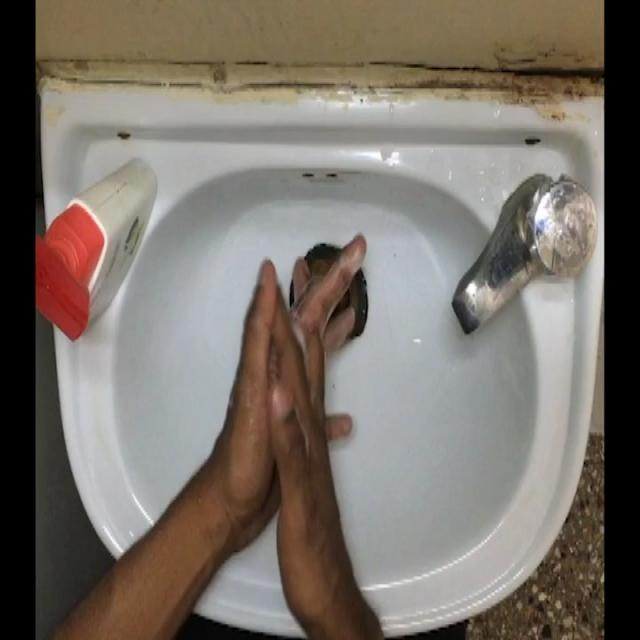step_3: (225, 218, 379, 524)
